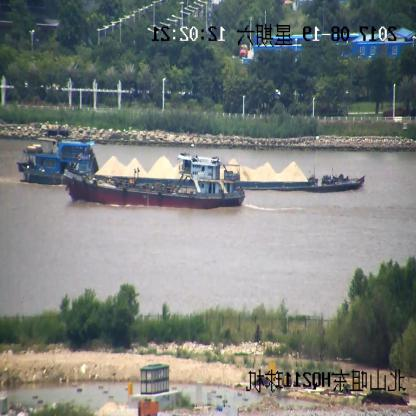Bulk Carrier: (63, 157, 244, 210)
